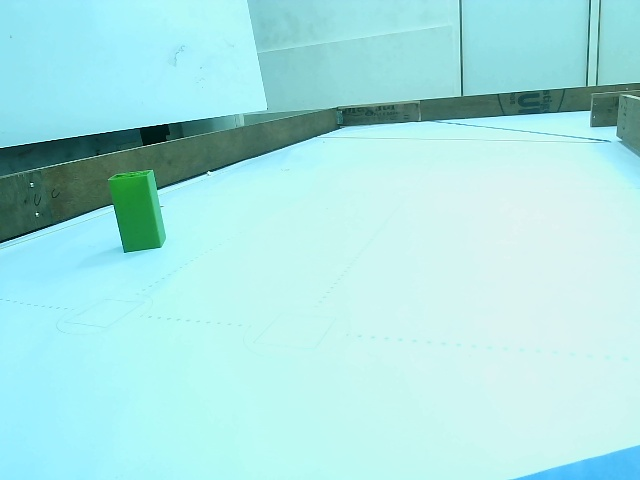green: (112, 170, 165, 250)
